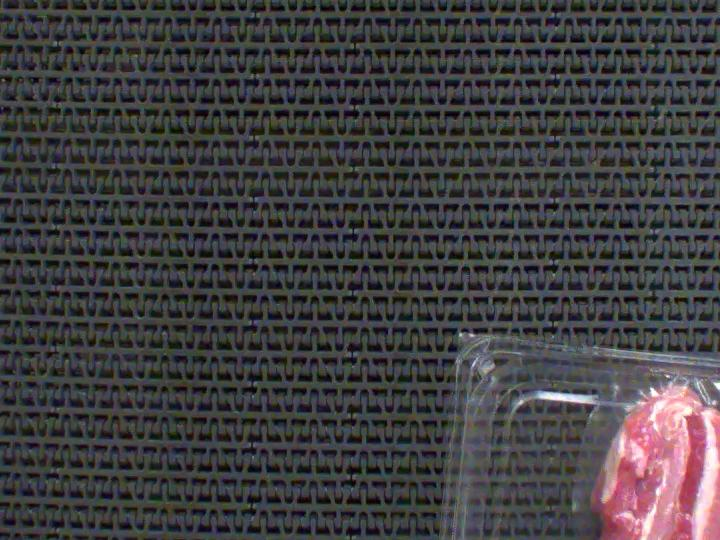unsealed: (550, 370, 720, 540)
